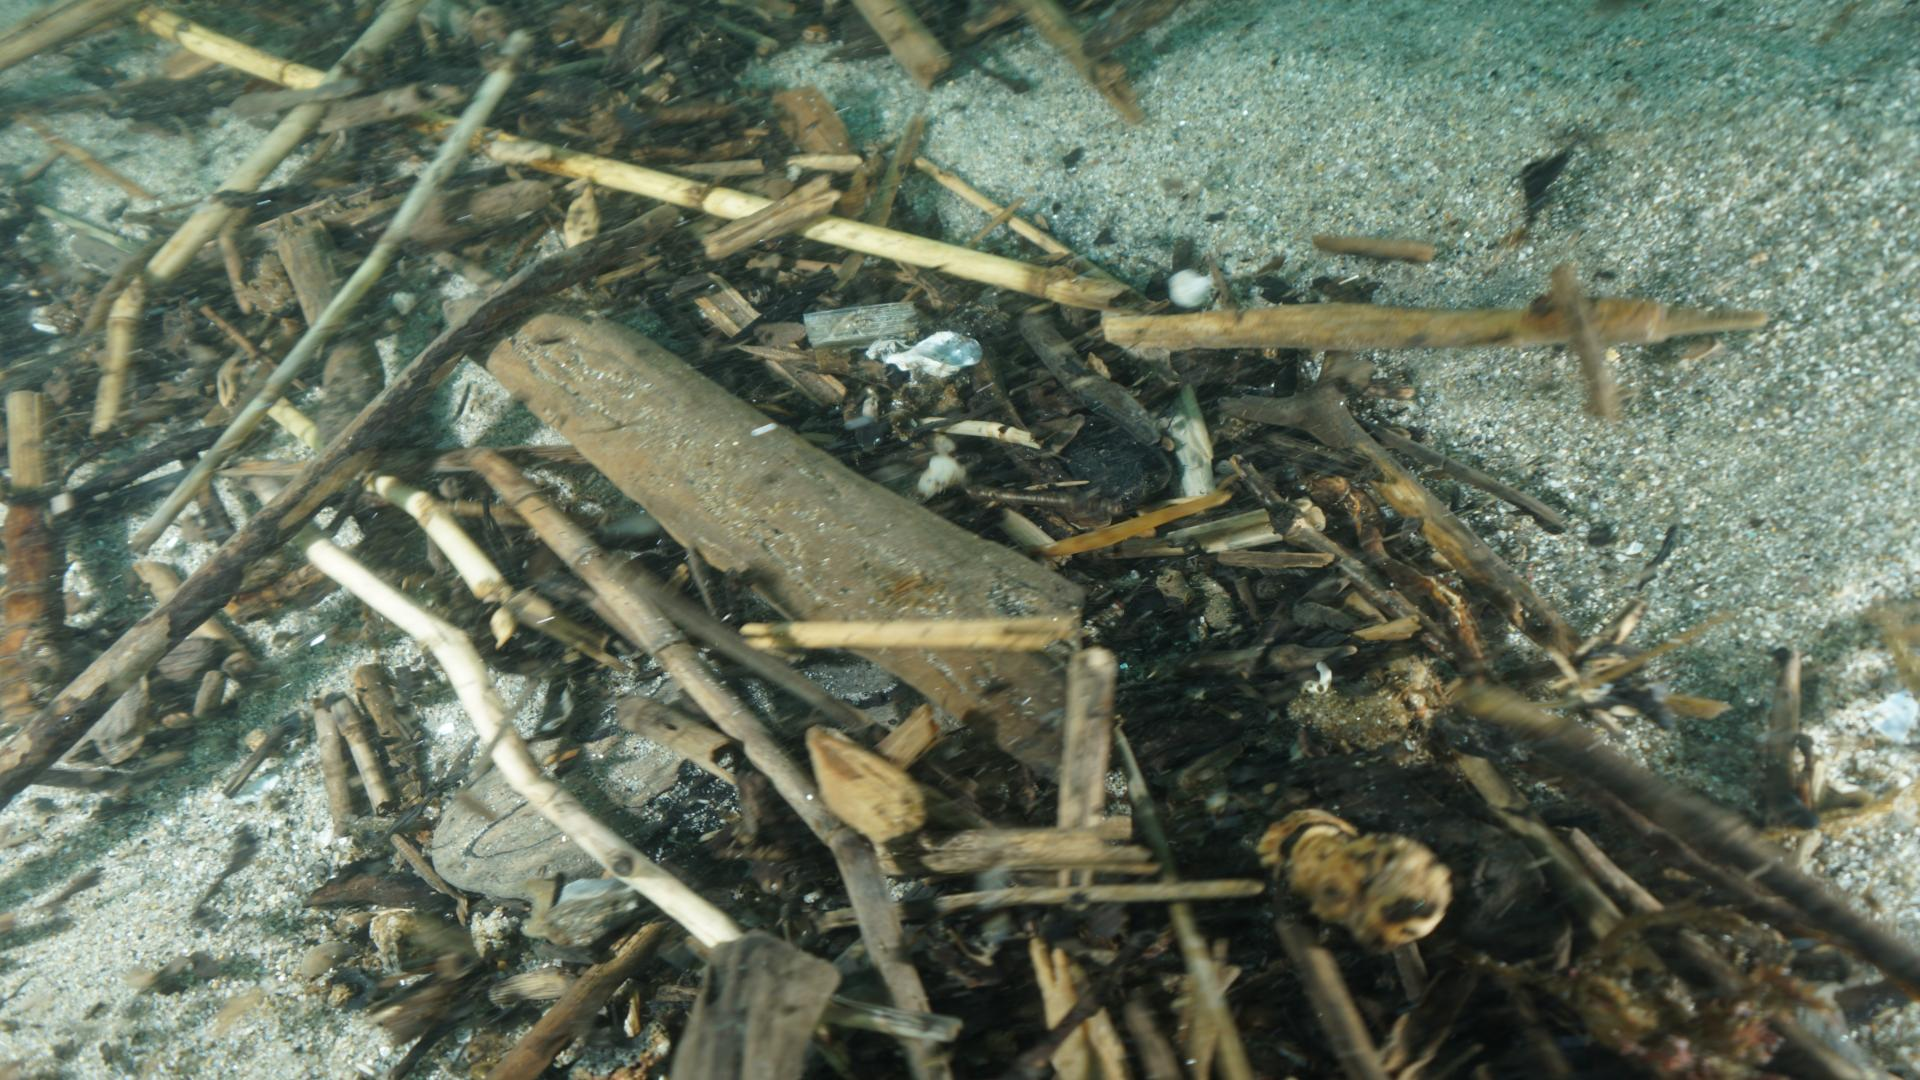wood: (436, 272, 1093, 789)
